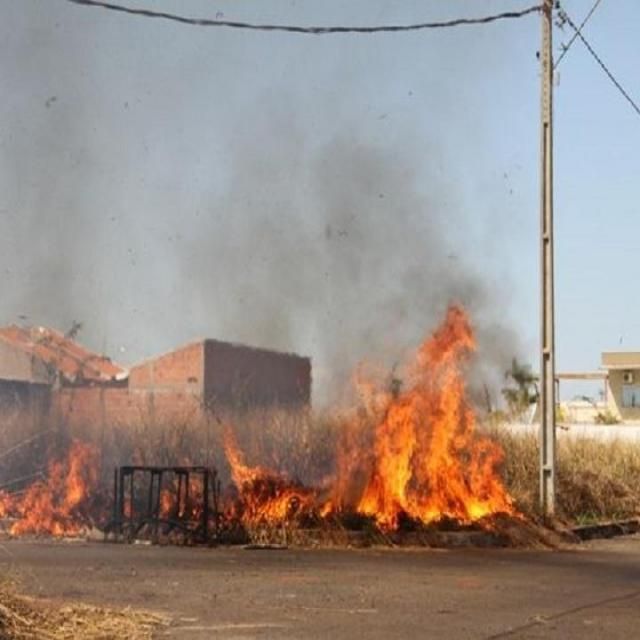Fire: (324, 315, 522, 525), (160, 432, 312, 548), (9, 443, 103, 550)
